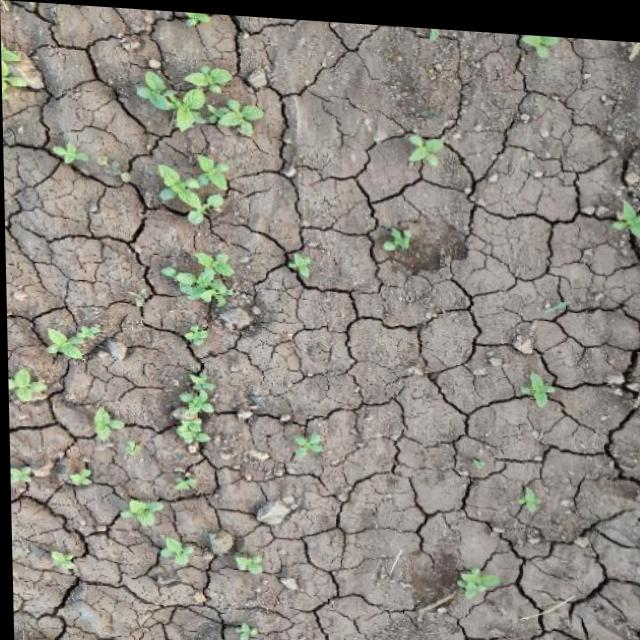crop: (110, 494, 198, 567), (148, 148, 234, 222), (154, 243, 236, 315), (159, 361, 211, 456), (36, 314, 104, 370), (445, 550, 500, 594), (513, 355, 555, 412), (54, 455, 105, 500), (406, 121, 447, 167), (82, 399, 119, 447), (372, 213, 414, 251), (281, 240, 317, 280)
